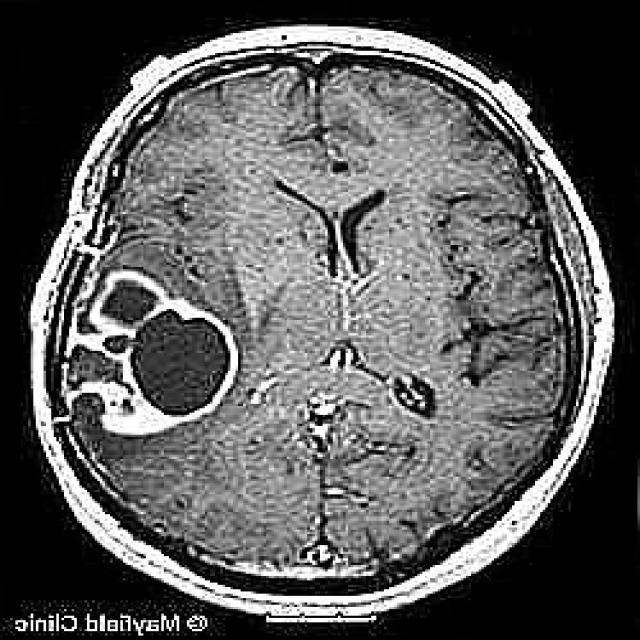Tumor-Cell: (52, 252, 266, 455)
